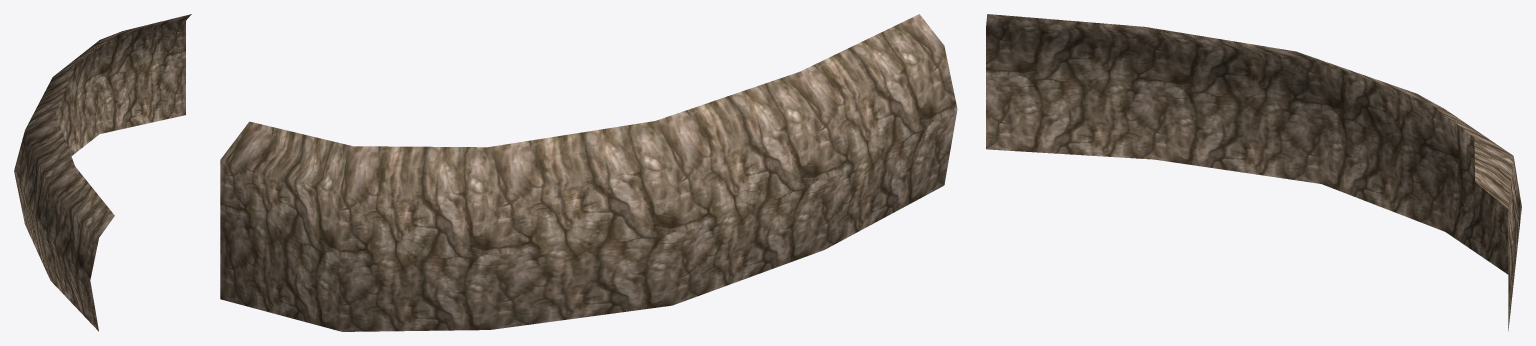
The model's file is OVERHILL_A_01_OBJECT154.fbx.
3 views of the same model, side by side, from view 1: azimuth 30°, elevation 25°; view 2: azimuth 150°, elevation 25°; view 3: azimuth 270°, elevation 25° (orthographic). The views are drawn at different scales.
Parts seen in each view (by area): view 1: OVERHILL_A_01_OBJECT154; view 2: OVERHILL_A_01_OBJECT154; view 3: OVERHILL_A_01_OBJECT154.
Part boxes in pixels (x1,y1,x2,y2): OVERHILL_A_01_OBJECT154: (14,14,191,331); OVERHILL_A_01_OBJECT154: (220,14,957,331); OVERHILL_A_01_OBJECT154: (986,14,1521,330).
Size of the model in its own units: 262408 by 95040 by 315809.
1 material, 1 textured.
